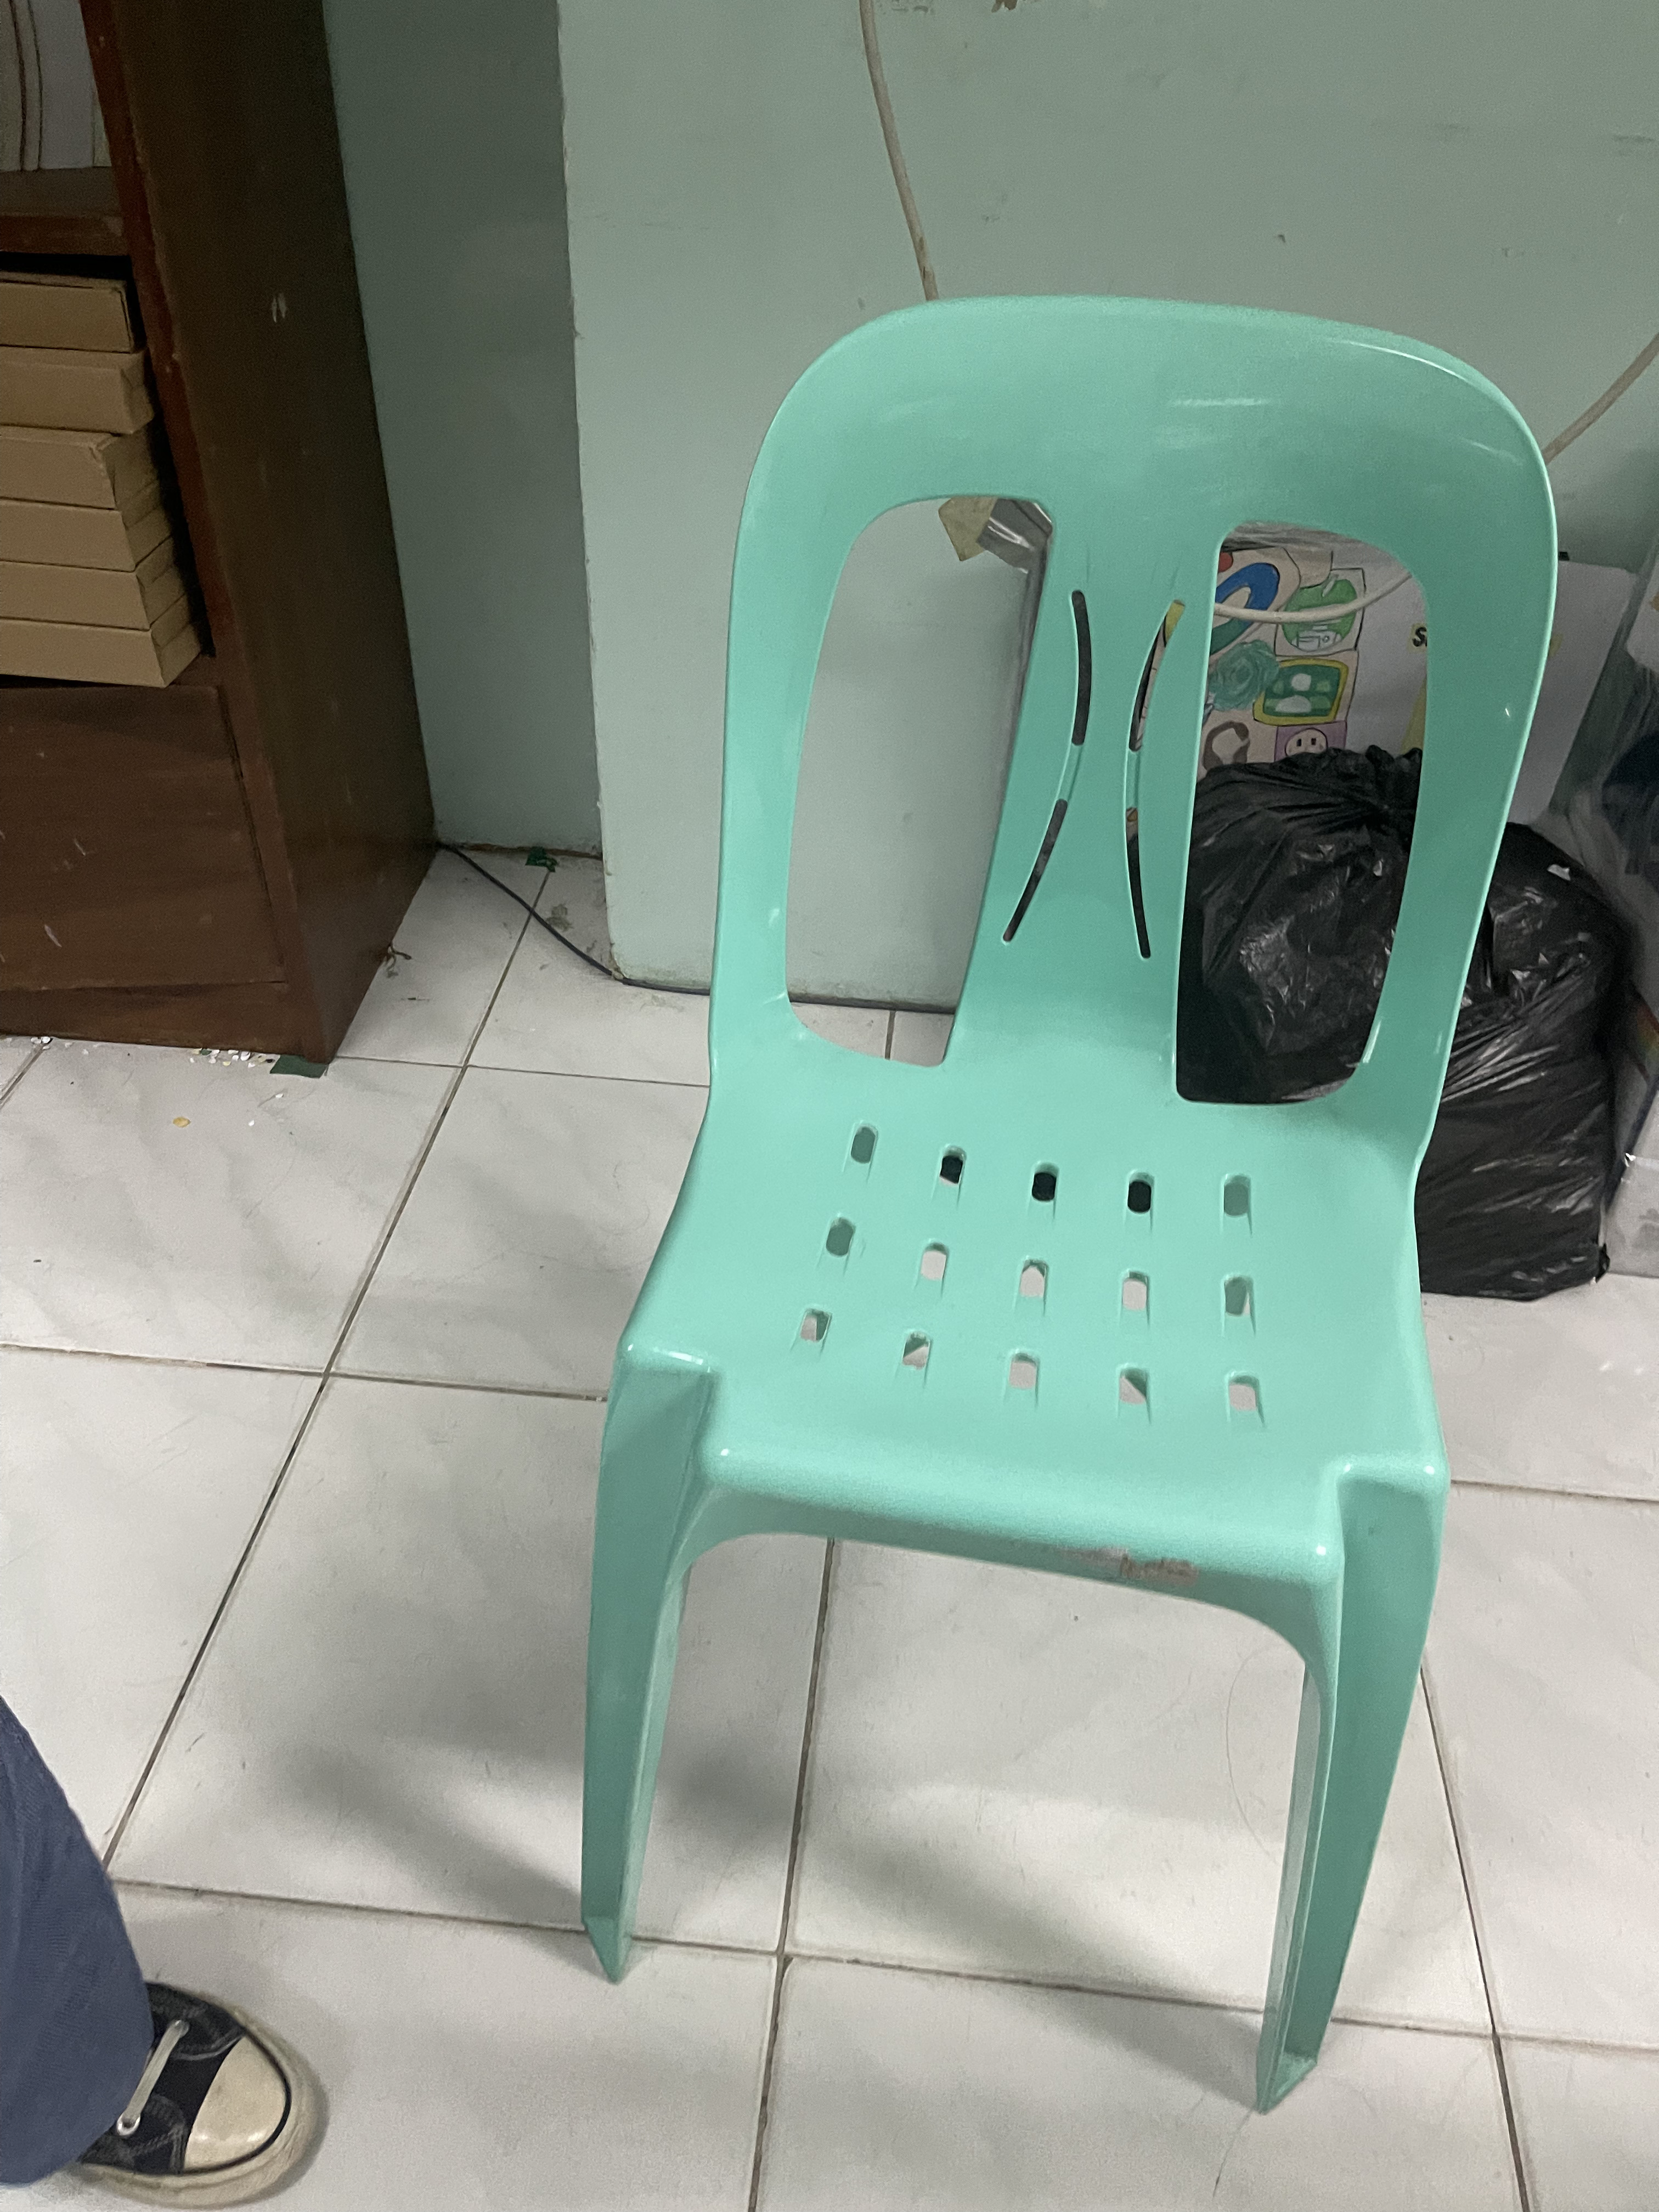chair2: (526, 286, 1563, 2107)
